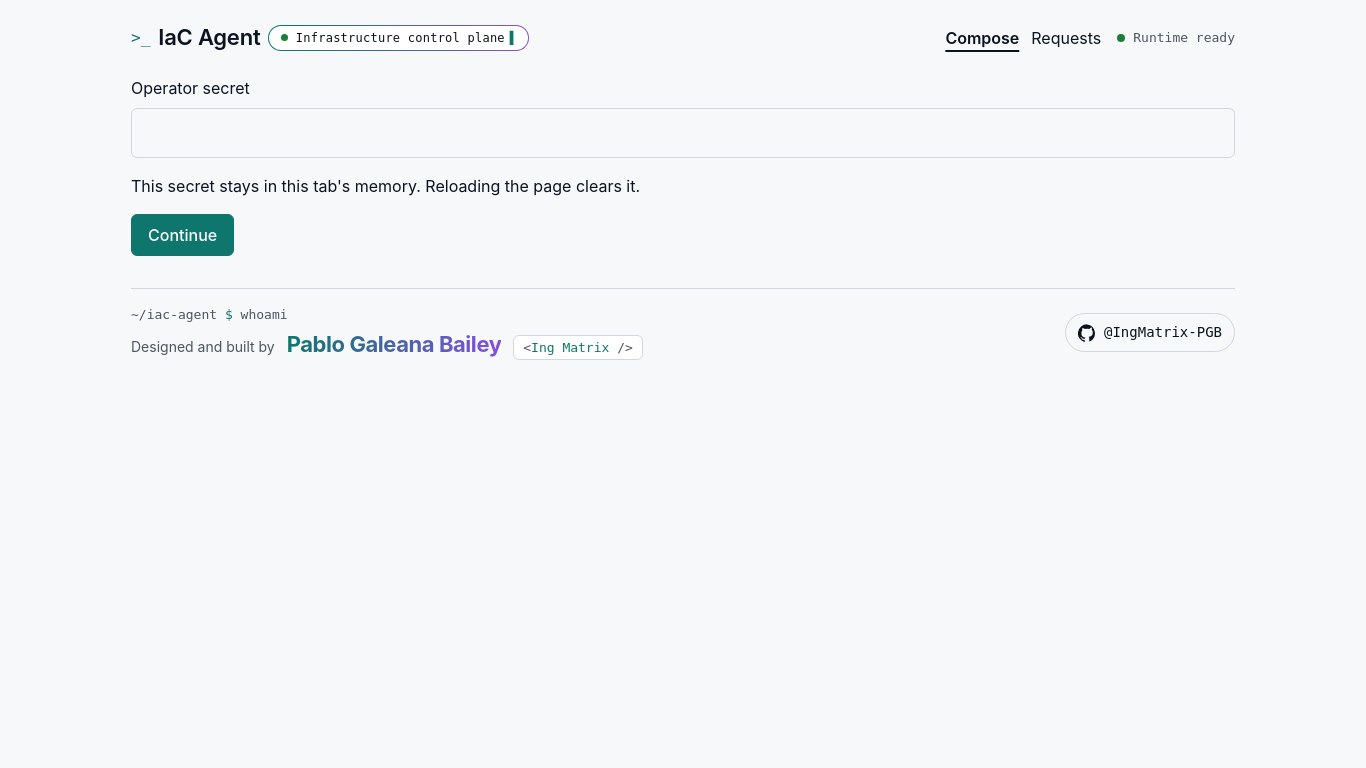
Scenario: recent requests › keeps the composer usable when the list cannot load
Step 1. Type "test-operator-secret" into the password field labelled "Operator secret" → x=683, y=132, box [131,108,1235,158]
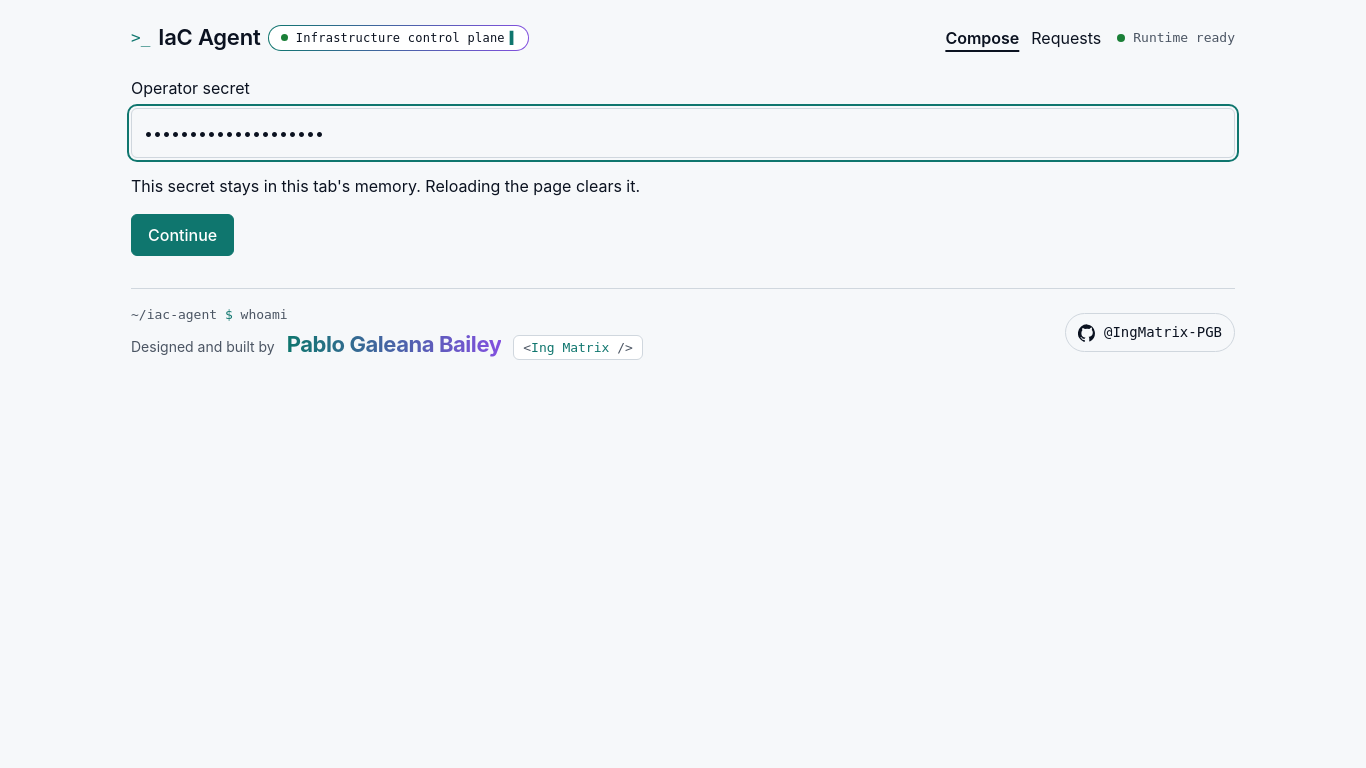
Step 2. Click the button "Continue" → x=183, y=234, box [131,214,234,256]
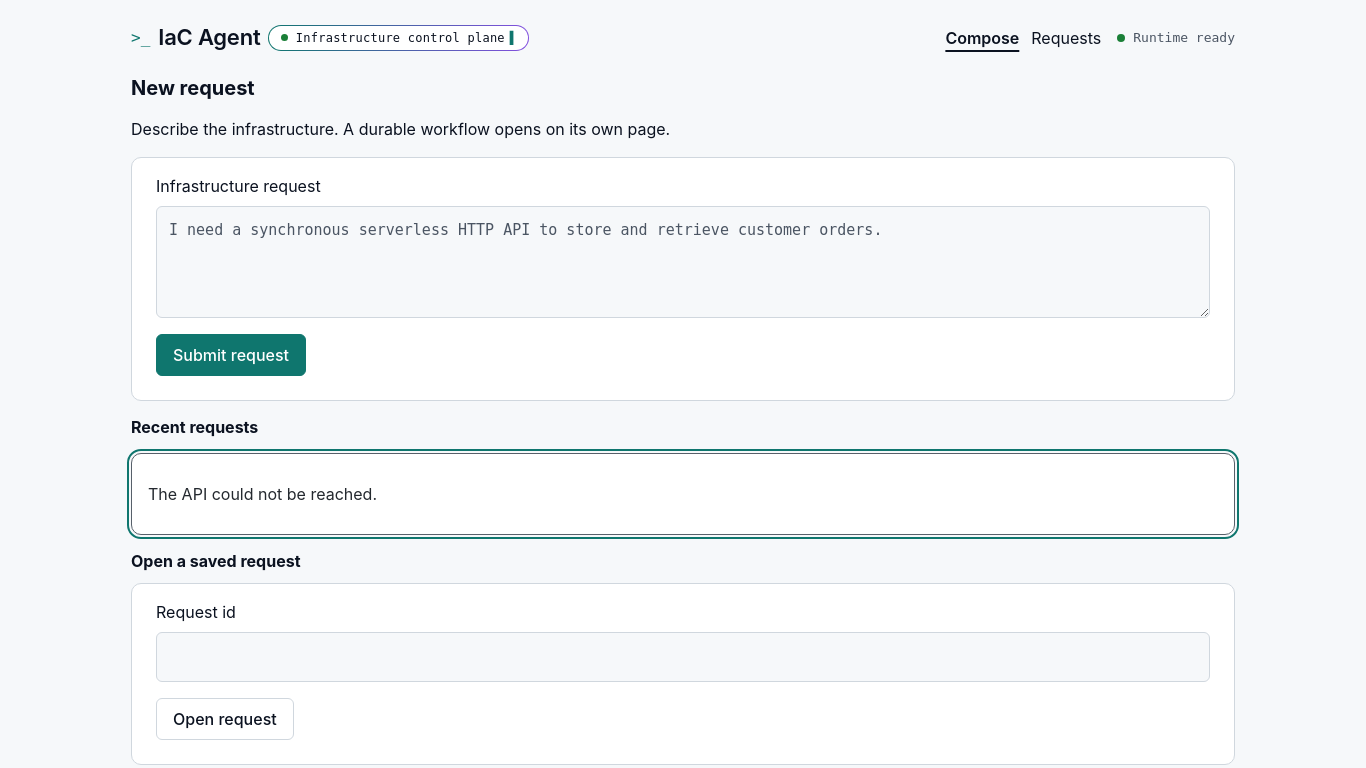
Now the message reads "The API could not be reached.", box [148,484,377,504]
Now the heading "New request" is shown, box [131,76,255,100]
Now the heading "Open a saved request" is shown, box [131,550,300,570]
